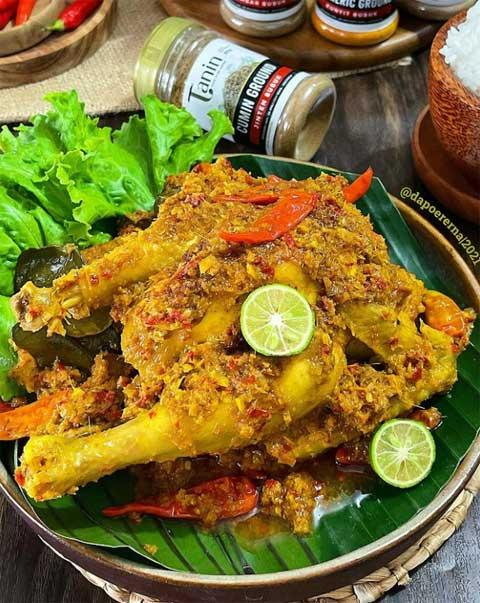ayam_betutu: (9, 161, 473, 502)
